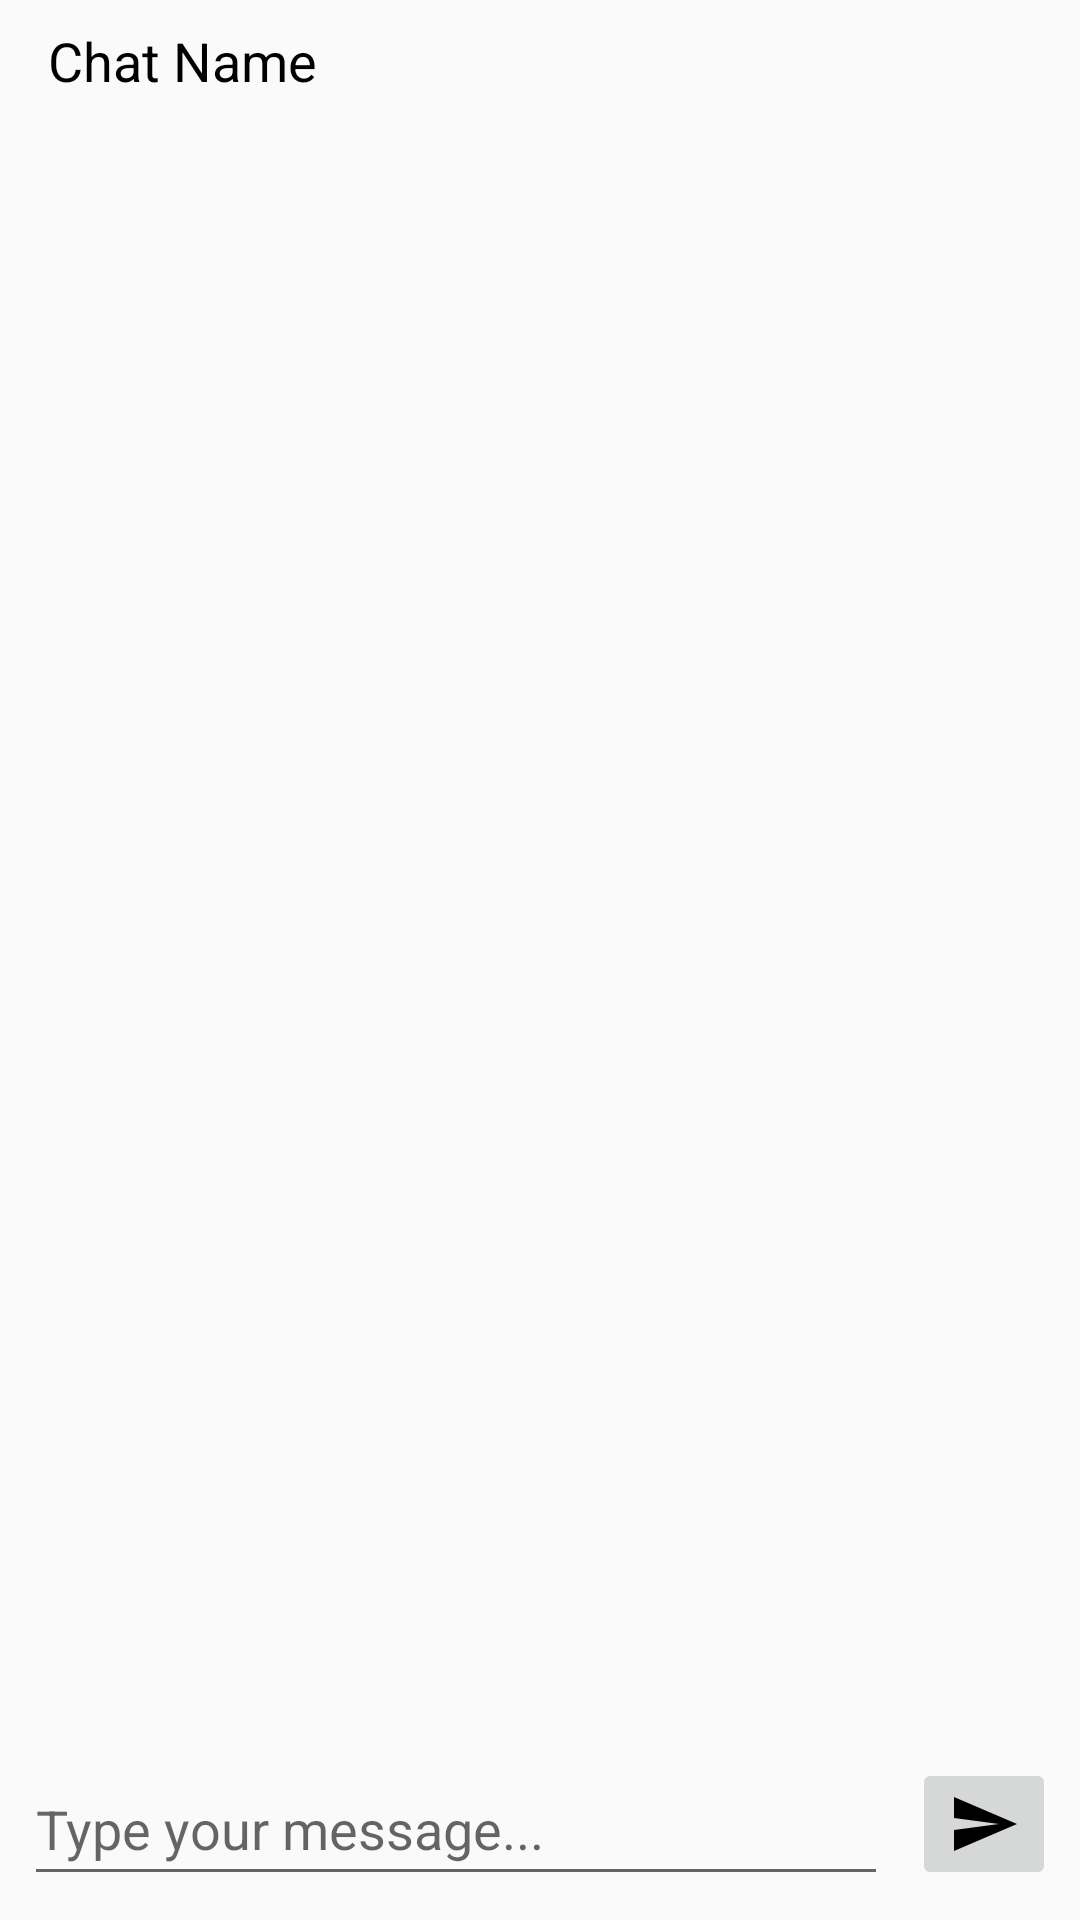

Icons on this 1080 × 1920 Android screen, each with the point to tap as point (x, y):
Send Message: point (984, 1824)
